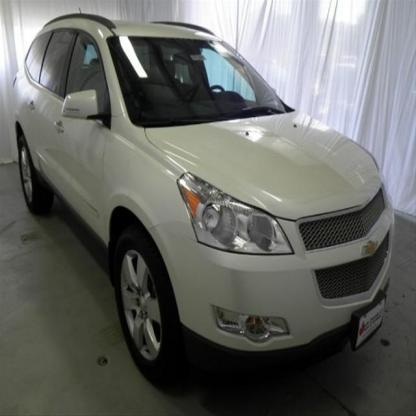Vehicle: (11, 7, 397, 384)
